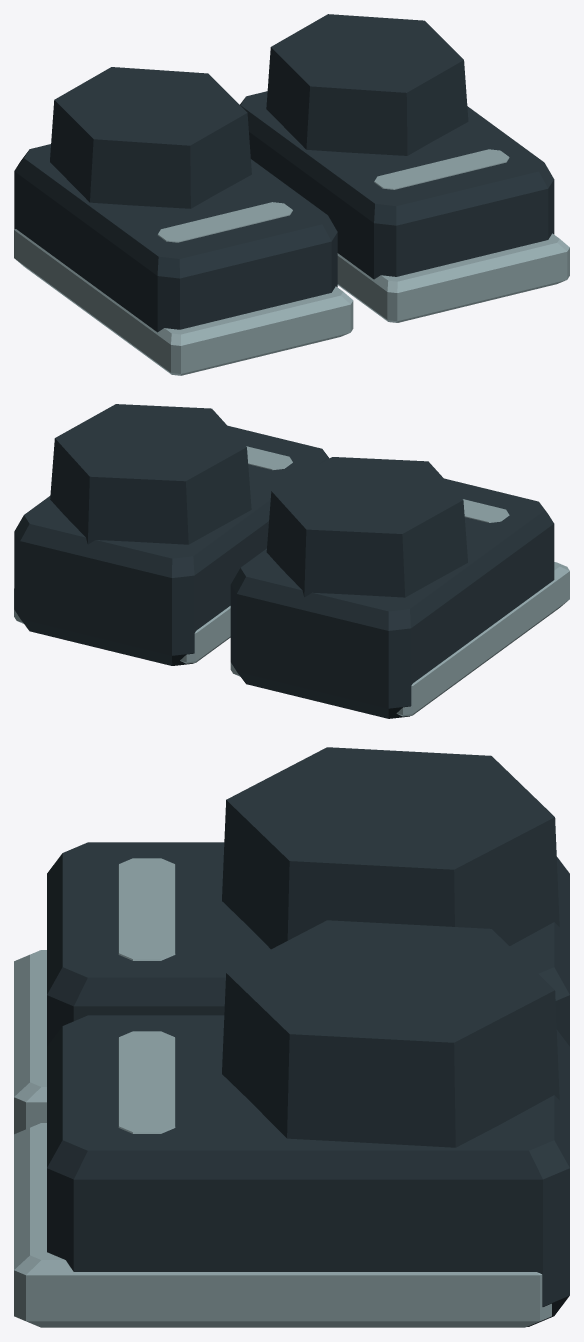
Rendered from SM_NPC_FOOTWEAR_002_CombatBoots.glb.
3 renders of one model, top to bottom at view 1: azimuth 30°, elevation 25°; view 2: azimuth 150°, elevation 25°; view 3: azimuth 270°, elevation 25°, orthographic. The views are drawn at different scales.
Parts seen in each view (by area): view 1: SM_NPC_FOOTWEAR_002_CombatBoots; view 2: SM_NPC_FOOTWEAR_002_CombatBoots; view 3: SM_NPC_FOOTWEAR_002_CombatBoots.
Boxes of the visible parts, x1,y1,x2,y2 form: SM_NPC_FOOTWEAR_002_CombatBoots: [14, 14, 569, 375]; SM_NPC_FOOTWEAR_002_CombatBoots: [14, 404, 569, 718]; SM_NPC_FOOTWEAR_002_CombatBoots: [14, 747, 569, 1327].
Size of the model in its own units: 0.505 by 0.205 by 0.372.
